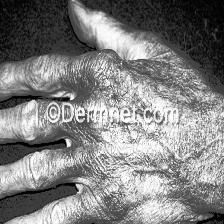Benign Marking or Mole: (86, 133, 150, 214)
